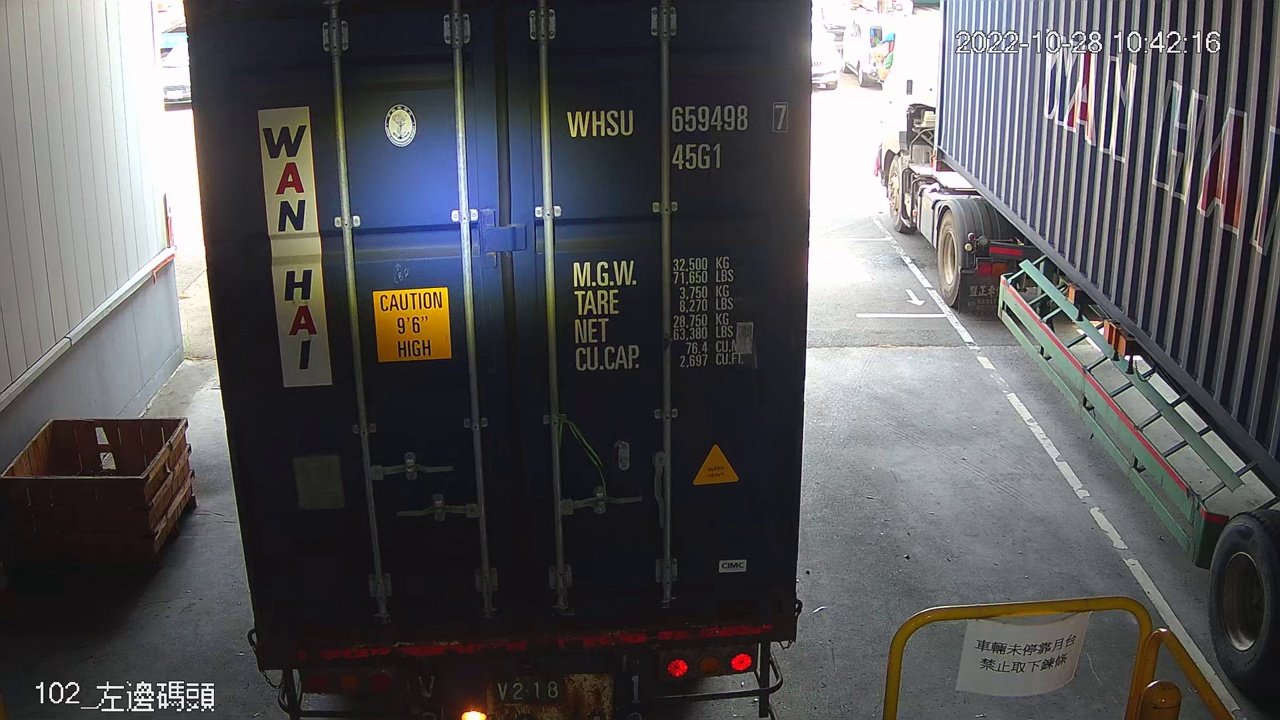container: (561, 93, 793, 180)
